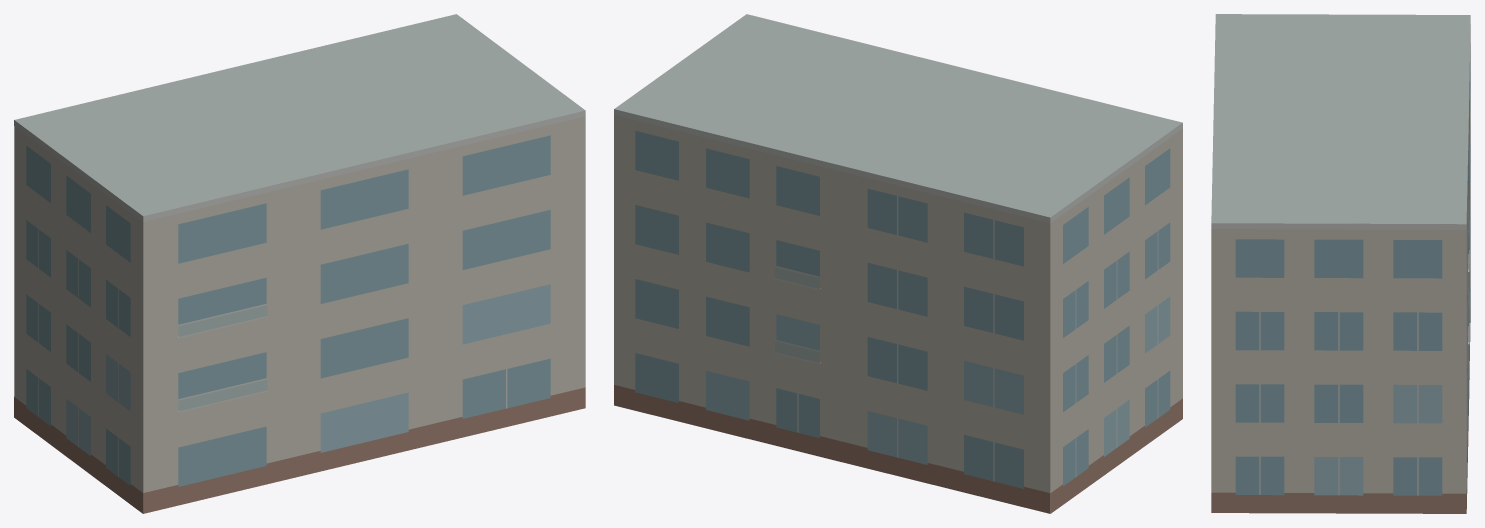
Rendered from residential-49ba5de0-e1d2-4576-ba96-91f788e5ff5a.glb.
3 views of the same model, side by side, from view 1: azimuth 30°, elevation 25°; view 2: azimuth 150°, elevation 25°; view 3: azimuth 270°, elevation 25° (orthographic). The views are drawn at different scales.
Visible parts, largest first — view 1: residential-49ba5de0-e1d2-4576-ba96-91f788e5ff5a.tmp; view 2: residential-49ba5de0-e1d2-4576-ba96-91f788e5ff5a.tmp; view 3: residential-49ba5de0-e1d2-4576-ba96-91f788e5ff5a.tmp.
Part boxes in pixels (x1,y1,x2,y2): residential-49ba5de0-e1d2-4576-ba96-91f788e5ff5a.tmp: [14, 14, 585, 513]; residential-49ba5de0-e1d2-4576-ba96-91f788e5ff5a.tmp: [614, 14, 1182, 513]; residential-49ba5de0-e1d2-4576-ba96-91f788e5ff5a.tmp: [1211, 14, 1470, 513].
Size of the model in its own units: 18.99 by 12.2 by 9.91.
